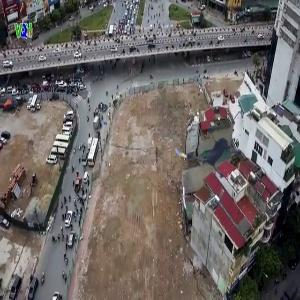drone: (174, 108, 253, 187)
